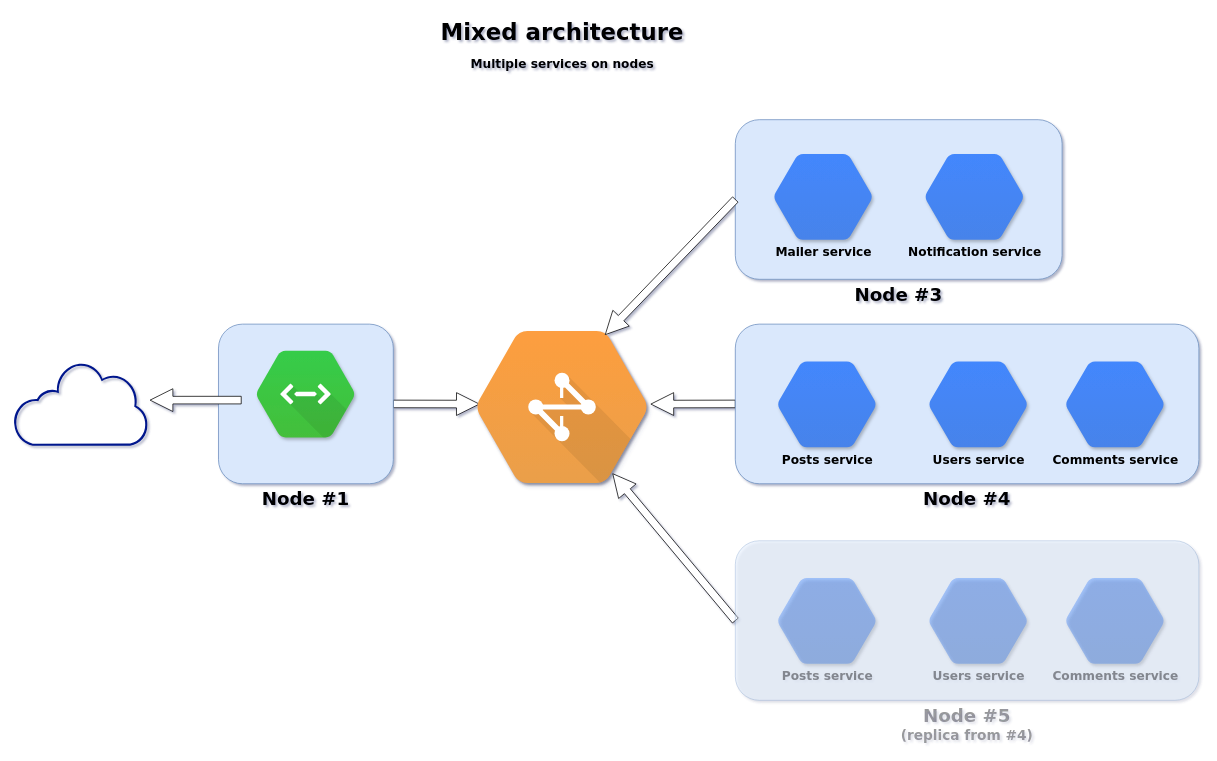
The diagram is 1217 pixels wide and 761 high, and some of its shapes have lost their labels. The shapes that lost their labels are listed below. From the top down, each one's centre as x and y in pixels, then its label:
At (306,394): "API gateway".
At (562,408): "Transporter Node #2".
